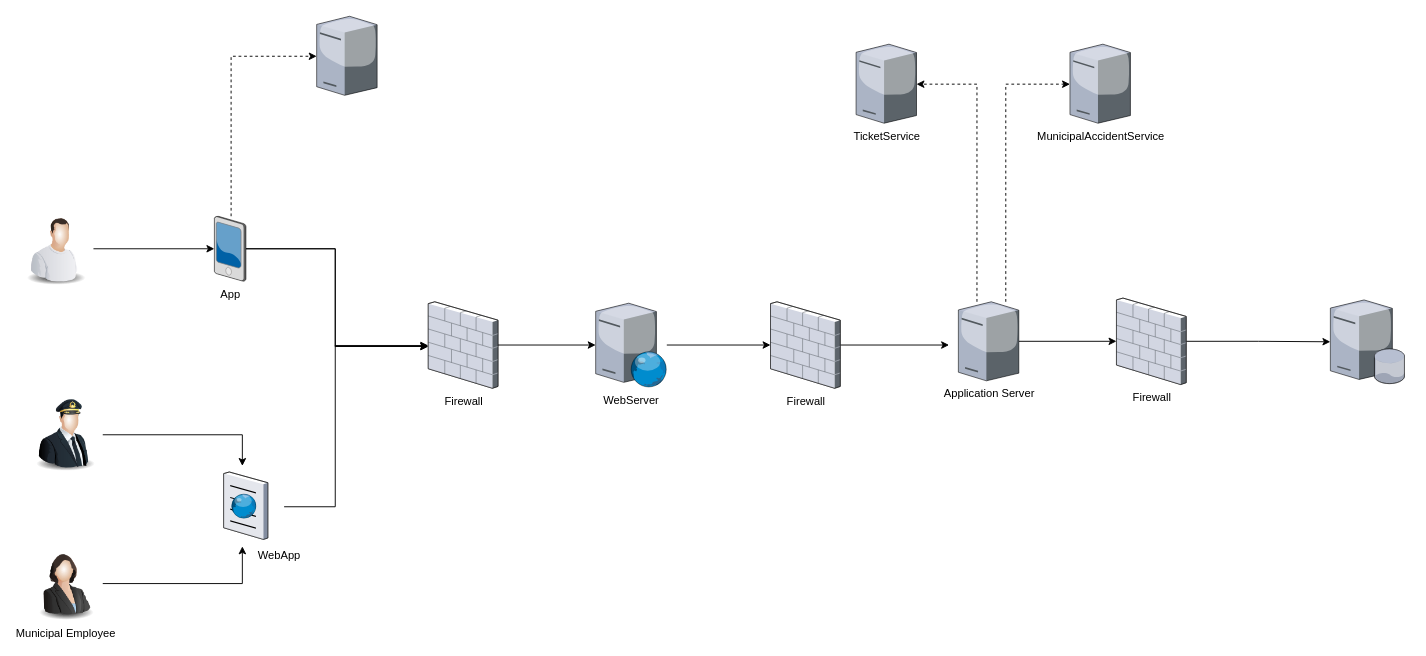
Some shapes in this 1426 by 656 pixel diagram are drawn without their labels. Here are the shapes that lost their labels. From the top down, the centre of each, then its label:
At (346,55): "MapService".
At (56,248): "User".
At (1367,341): "DataBase Server".
At (65,434): "Local Officer".
